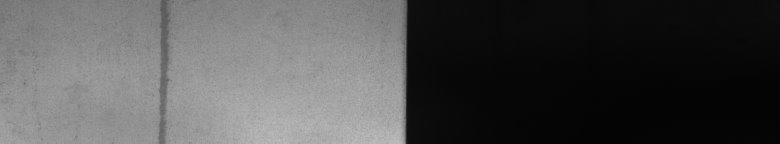hd: (148, 4, 173, 136)
